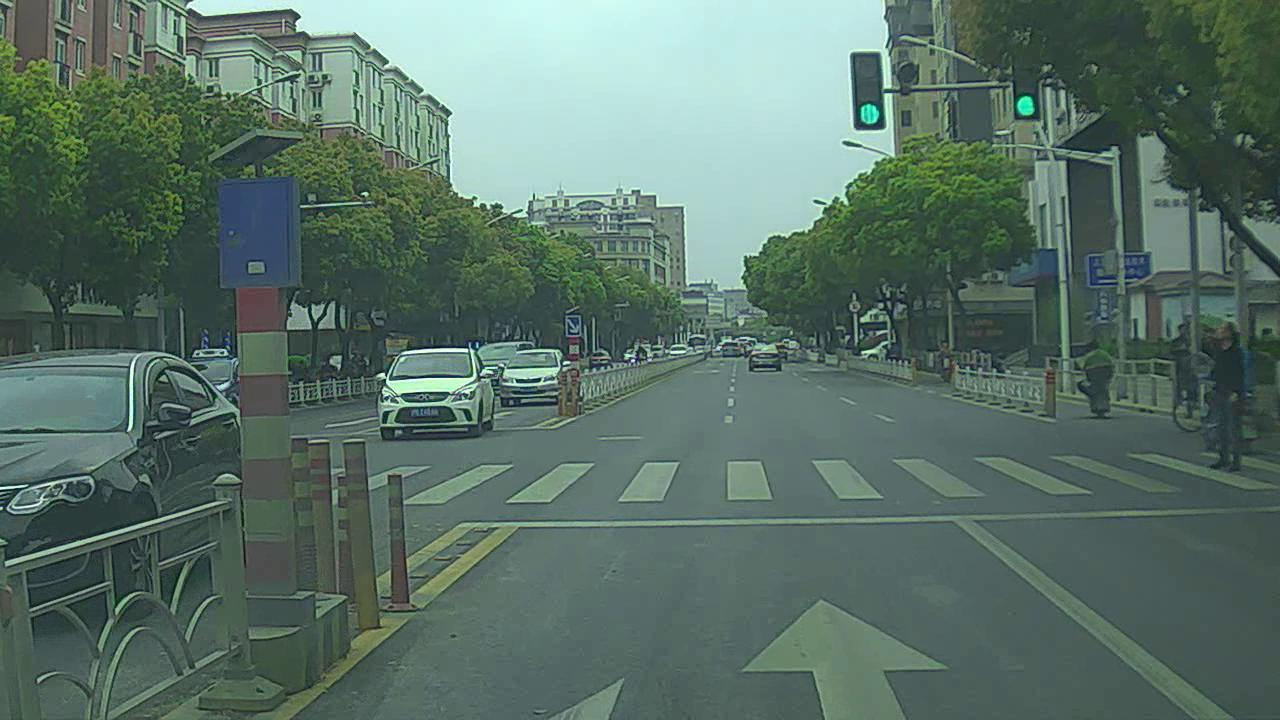traffic_light: (847, 48, 886, 132), (1014, 51, 1044, 120)
